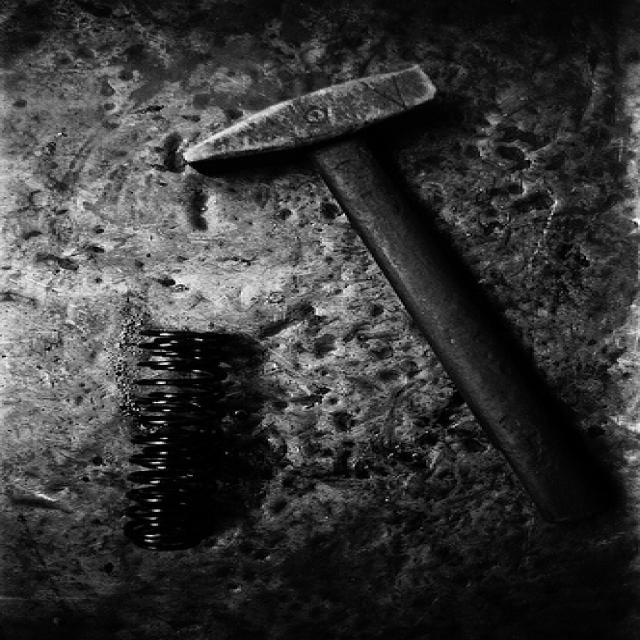hammer: (174, 59, 640, 540)
